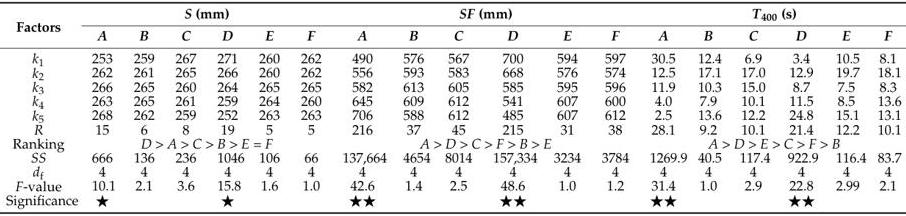table: (5, 4, 900, 211)
table column: (5, 4, 84, 211), (331, 4, 394, 211), (482, 4, 544, 211), (638, 4, 692, 211), (590, 4, 638, 211), (730, 4, 778, 211), (778, 4, 826, 211), (544, 4, 590, 211), (206, 4, 251, 211), (437, 4, 482, 211), (826, 4, 871, 211), (394, 4, 437, 211), (164, 4, 206, 211), (289, 4, 331, 211), (84, 4, 124, 211), (124, 4, 164, 211), (251, 4, 289, 211), (692, 4, 730, 211), (871, 4, 900, 211)
table column header: (5, 4, 900, 46)
table row: (5, 4, 900, 25), (5, 25, 900, 46), (5, 46, 900, 65), (5, 192, 900, 211), (5, 65, 900, 80), (5, 164, 900, 179), (5, 80, 900, 94), (5, 94, 900, 108), (5, 108, 900, 122), (5, 122, 900, 136), (5, 136, 900, 150), (5, 150, 900, 164), (5, 179, 900, 192)
table spanning cell: (331, 4, 638, 25), (638, 4, 900, 25), (84, 4, 331, 25), (331, 136, 638, 150), (638, 136, 900, 150), (84, 136, 331, 150), (5, 4, 84, 46)
